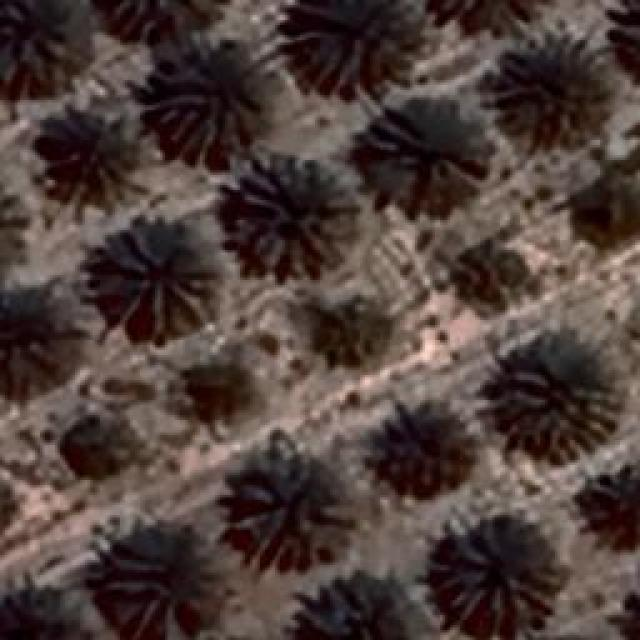PalmTree: (232, 152, 358, 278), (148, 30, 268, 160), (92, 220, 218, 338), (228, 448, 356, 564), (360, 95, 488, 200), (485, 37, 600, 145), (284, 0, 417, 92), (435, 524, 563, 618), (500, 362, 620, 460), (101, 534, 211, 638), (4, 282, 82, 396), (362, 412, 468, 486), (303, 577, 421, 640), (41, 115, 124, 193), (0, 0, 82, 77), (94, 0, 224, 45), (0, 582, 85, 640), (421, 0, 559, 35), (580, 465, 640, 543), (185, 368, 260, 422), (597, 0, 640, 89), (571, 186, 634, 242), (330, 300, 385, 358), (62, 421, 116, 471), (0, 185, 29, 272), (466, 252, 522, 288)
